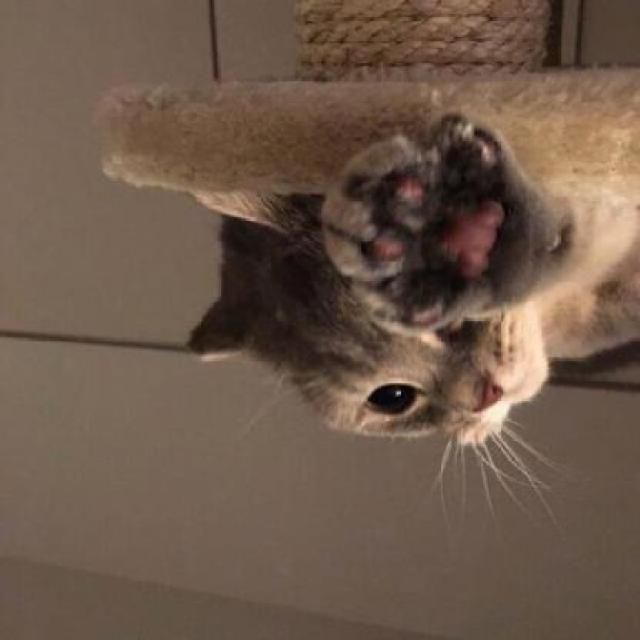cat: (180, 128, 611, 452)
